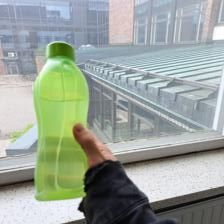bottle: (28, 42, 93, 201)
